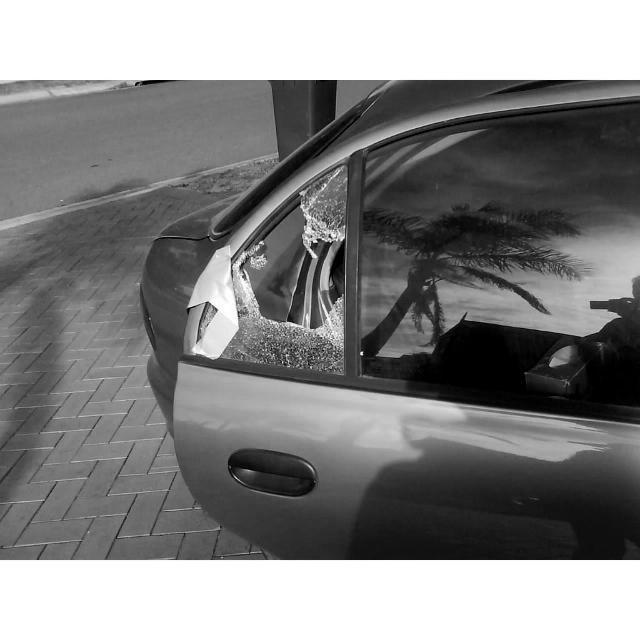doorouter-dent: (170, 178, 393, 486)
